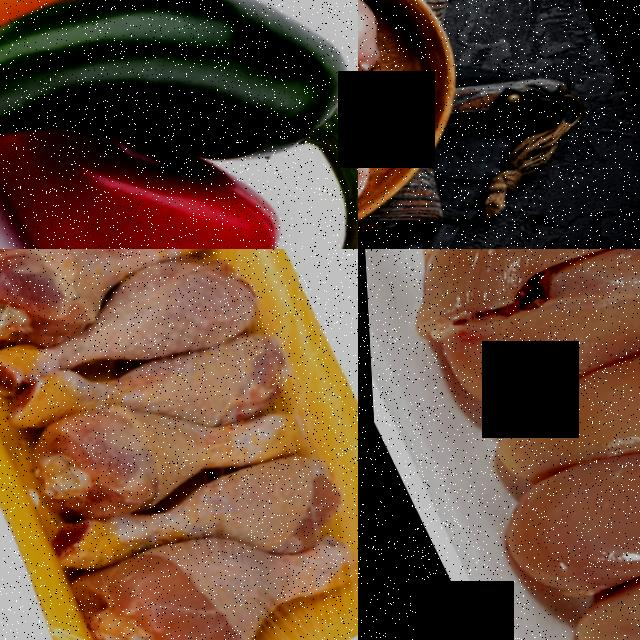chicken breast: (453, 249, 640, 530), (395, 249, 640, 443), (496, 348, 640, 636), (358, 249, 640, 355)
chicken thigh: (0, 332, 313, 556), (39, 415, 347, 611), (0, 249, 276, 439), (73, 474, 358, 640), (0, 249, 244, 366)
chilli: (11, 117, 312, 249)
